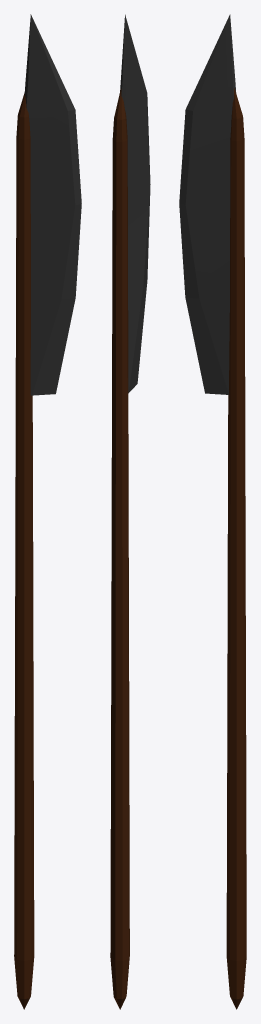
Rendered from glaive.obj.
3 views of the same model, side by side, from view 1: azimuth 90°, elevation 25°; view 2: azimuth 150°, elevation 25°; view 3: azimuth 270°, elevation 25° (orthographic).
Visible parts, largest first — view 1: Spear_Cube, Saber_Cube.003; view 2: Spear_Cube, Saber_Cube.003; view 3: Spear_Cube, Saber_Cube.003.
Part boxes in pixels (left/top/right/bottom): Spear_Cube: left=14, top=93, right=34, bottom=1009; Saber_Cube.003: left=24, top=14, right=81, bottom=395; Spear_Cube: left=110, top=88, right=129, bottom=1009; Saber_Cube.003: left=120, top=14, right=150, bottom=393; Spear_Cube: left=226, top=88, right=246, bottom=1009; Saber_Cube.003: left=179, top=14, right=236, bottom=394.
Bounding box in the file's own units: 0.0553 × 3.02 × 0.1858.
